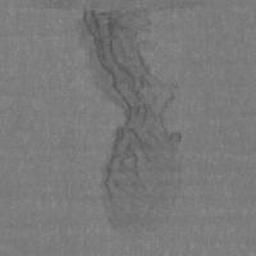Water spot: (74, 5, 187, 239)
